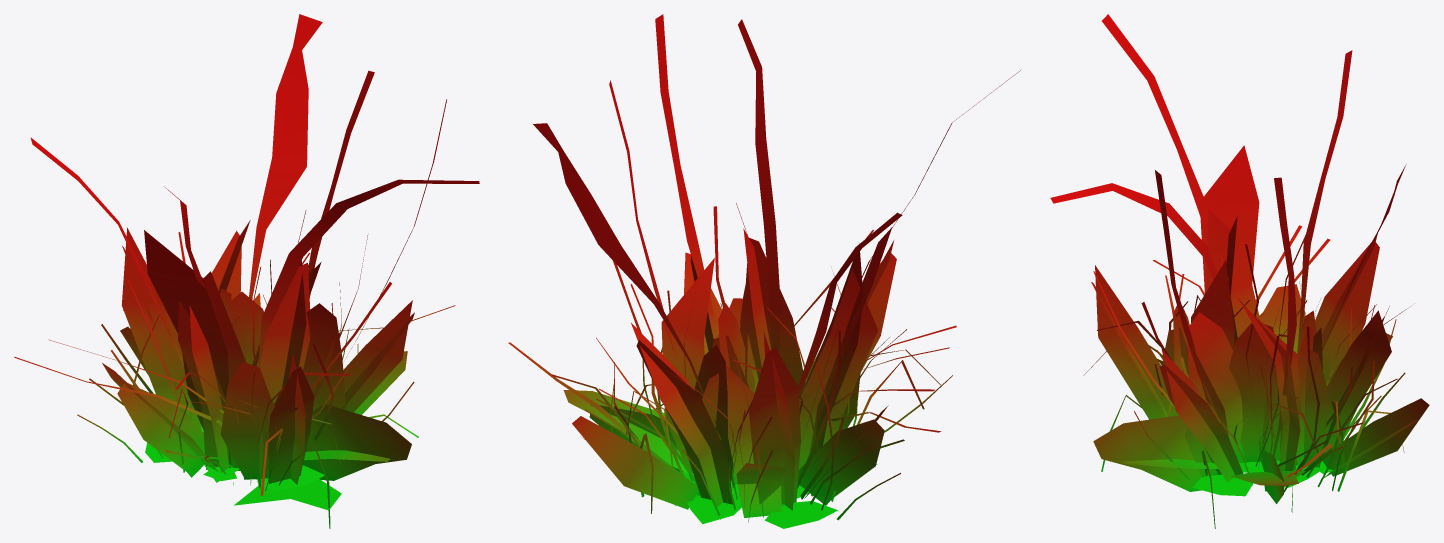
Rendered from Var4_LOD1.fbx.
3 renders of one model, left to right at view 1: azimuth 30°, elevation 25°; view 2: azimuth 150°, elevation 25°; view 3: azimuth 270°, elevation 25°, orthographic. The views are drawn at different scales.
Visible parts, largest first — view 1: _0958_Var4_LOD1; view 2: _0958_Var4_LOD1; view 3: _0958_Var4_LOD1.
Part boxes in pixels (x1,y1,x2,y2): _0958_Var4_LOD1: (14,14,479,528); _0958_Var4_LOD1: (508,14,1020,528); _0958_Var4_LOD1: (1050,14,1429,528).
Bounding box in the file's own units: 41.55 × 36.31 × 32.71.
